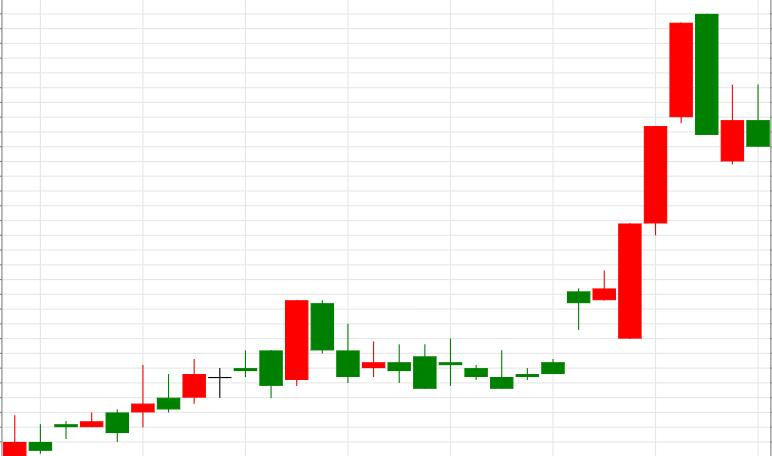bearish_engulfing_fall: (490, 14, 719, 388)
